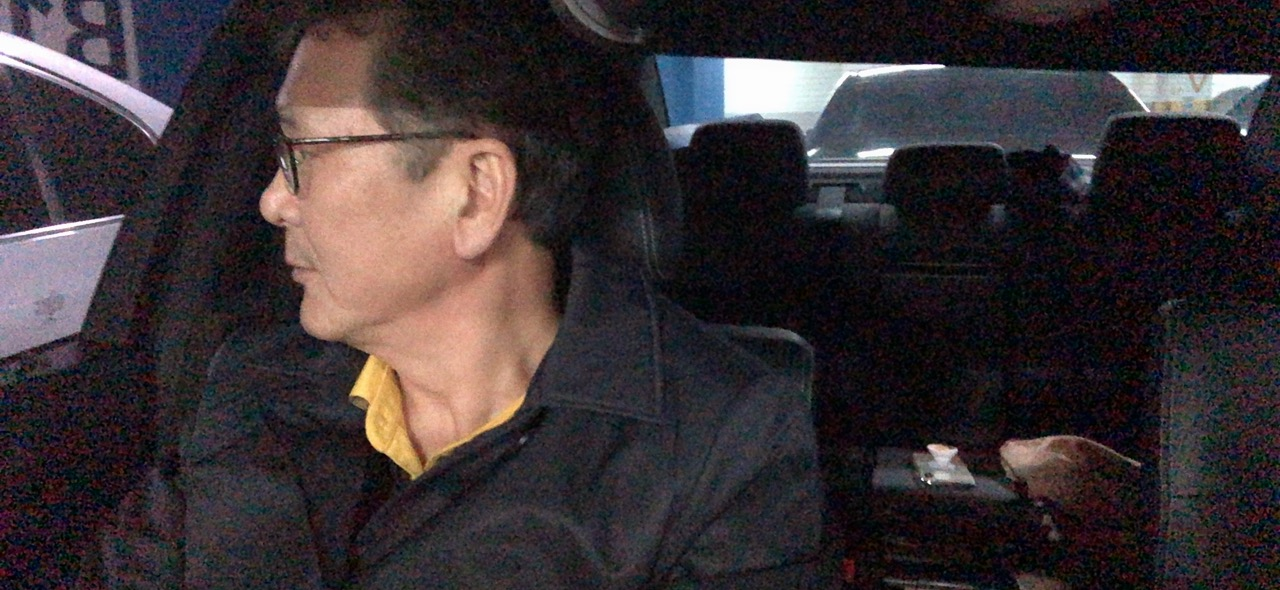left: (90, 1, 787, 589)
